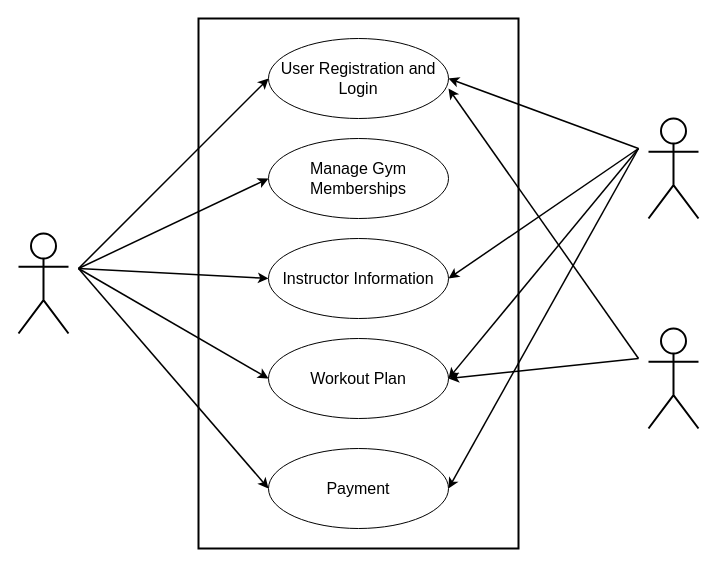
The diagram is 723 pixels wide and 566 high, and some of its shapes have lost their labels. The shapes that lost their labels are listed below. From the top down, each one's centre as x and y in pixels, then its label:
At (x=673, y=168): "Customer".
At (x=43, y=283): "Admin".
At (x=673, y=378): "Trainer".
